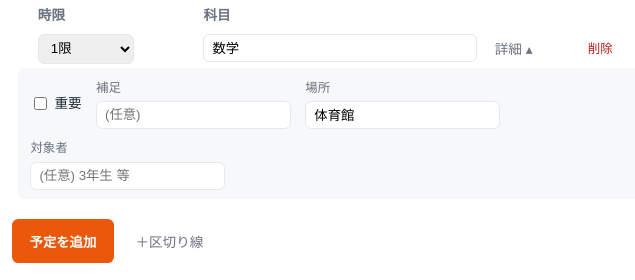
予定 — 任意項目（補足/場所/対象者）を行ごとに畳む › 任意項目に値がある行は初期から開き、折りたたんでも値は失われず開き直すと復元される
This screenshot has width=635, height=280.
Check: the field named "1 行目の場所" holds "体育館", box [305,101,500,129]
Note: 折りたたむと「入力あり」を示す（色だけに頼らない）。
Click the button with aria-label "1 行目の詳細項目" at point(514, 48), box [490,34,537,62]
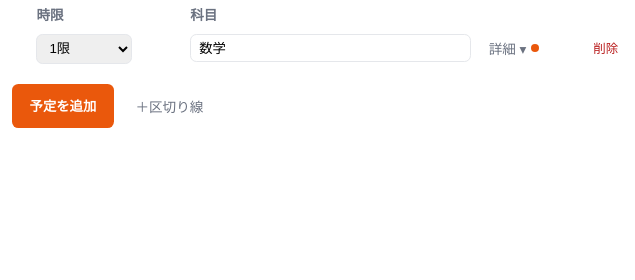
Note: 開き直すと値が残っている。
Click the button with aria-label "1 行目の詳細項目" at point(514, 48), box [484,34,544,62]
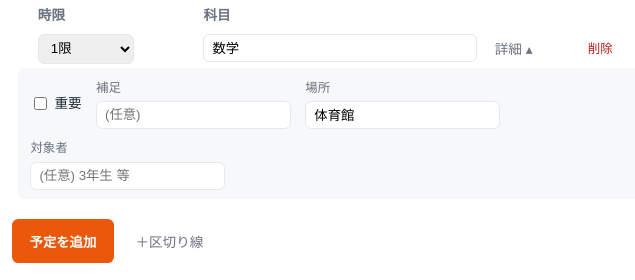
Check: the field named "1 行目の場所" holds "体育館", box [305,101,500,129]
